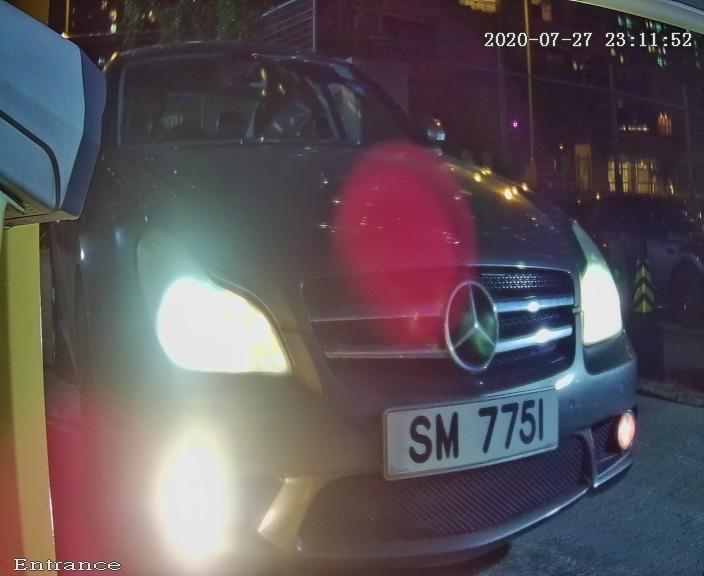privatecar: (59, 1, 683, 559)
